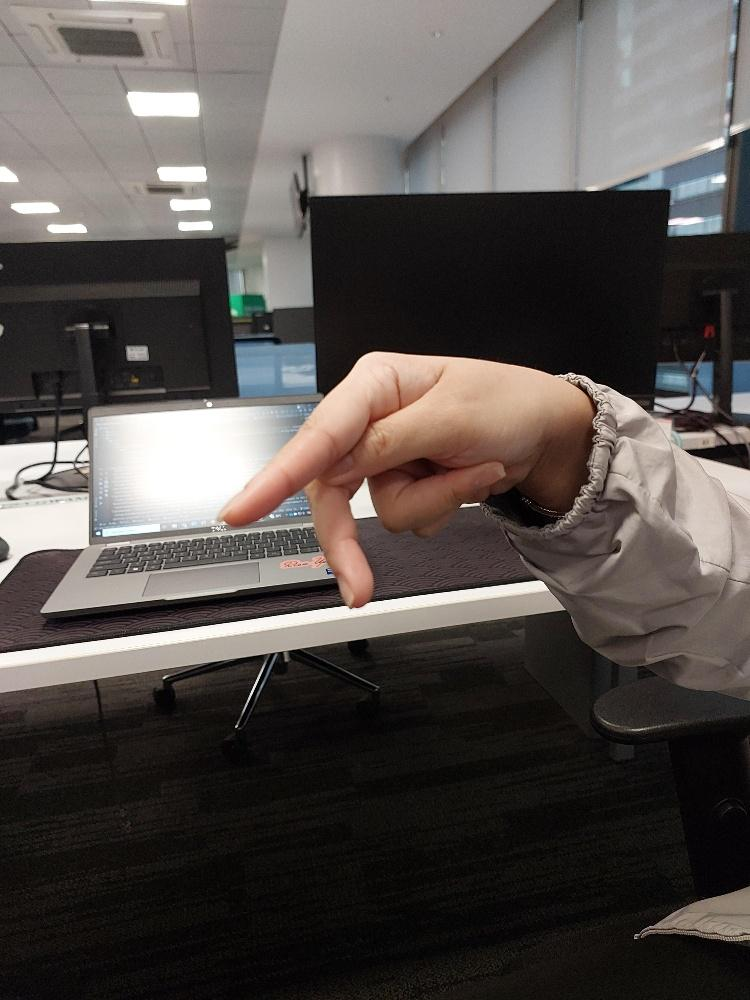p: (217, 349, 547, 608)
